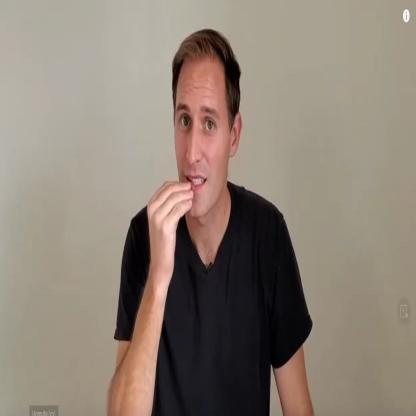Food: (144, 21, 253, 293)
